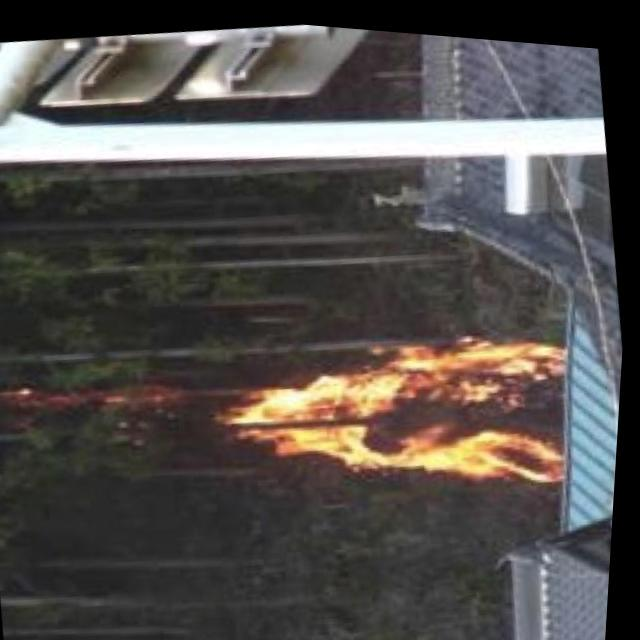fire: (213, 284, 592, 518)
